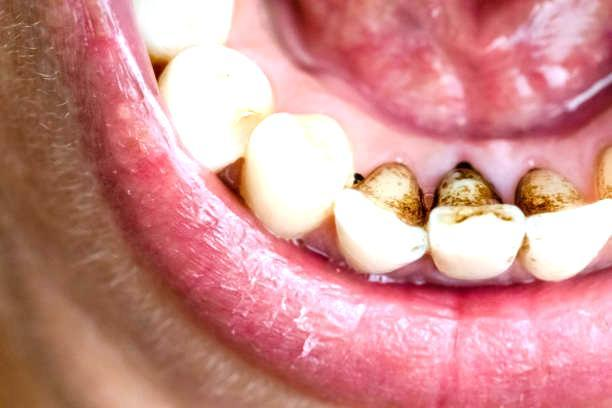Calculus: (327, 133, 431, 263), (430, 159, 529, 272), (513, 167, 609, 273)
